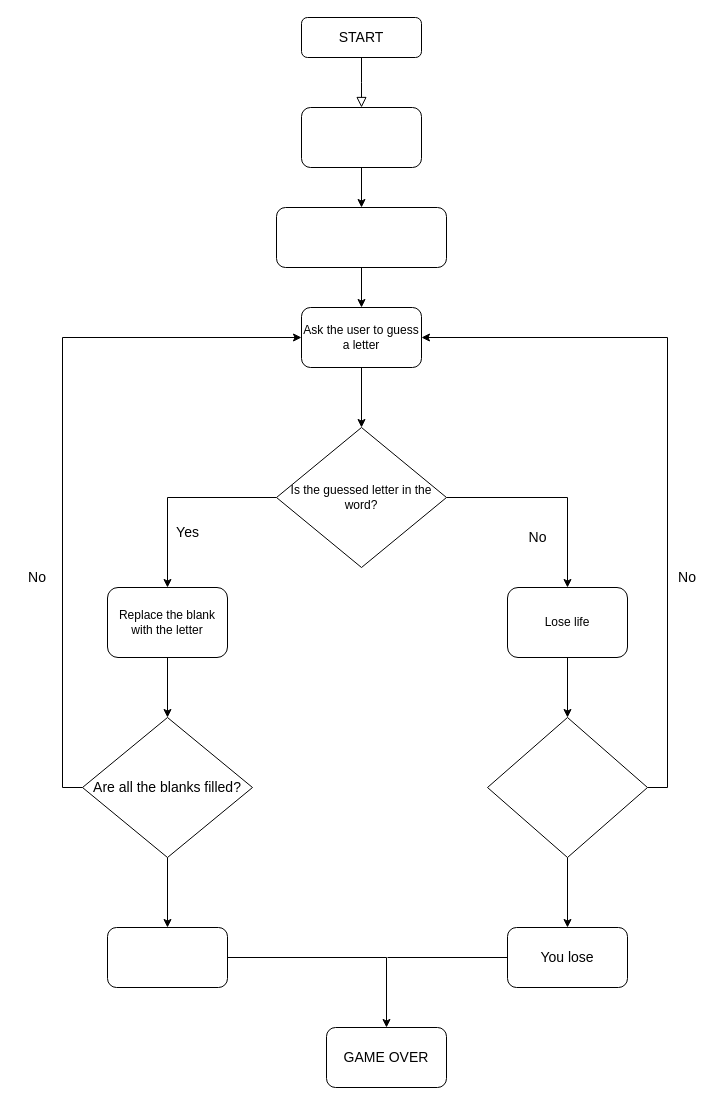
This 724x1105 diagram has some shape labels left out. The shapes that lost their labels are listed below. From the top down, each one's centre as x and y in pixels, then its label:
(x=361, y=137): Generate a random word
(x=361, y=237): Generate blank equal number of word's letter
(x=567, y=787): Have they run out of lives?
(x=167, y=957): You win
